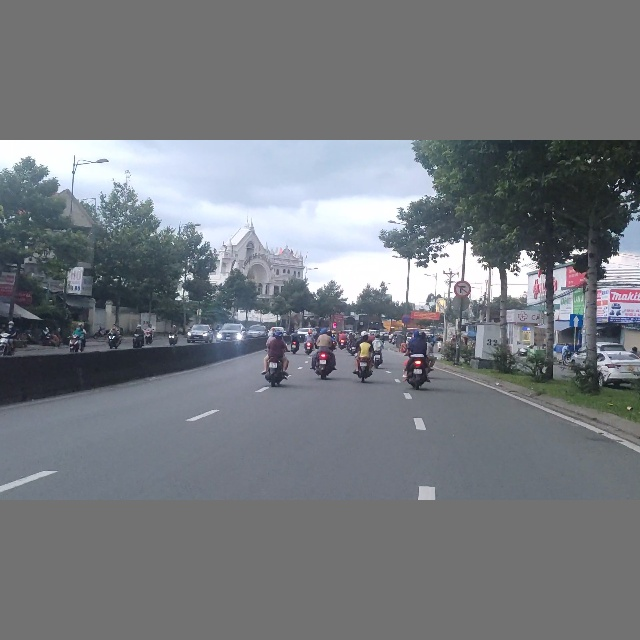P.123b: (454, 281, 471, 297)
